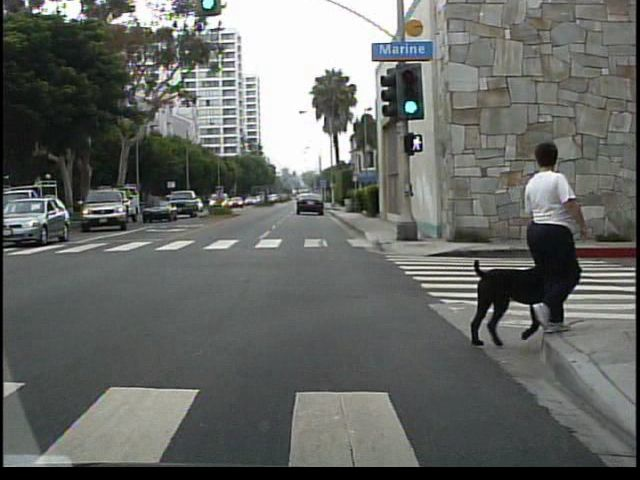person: (514, 142, 590, 340)
